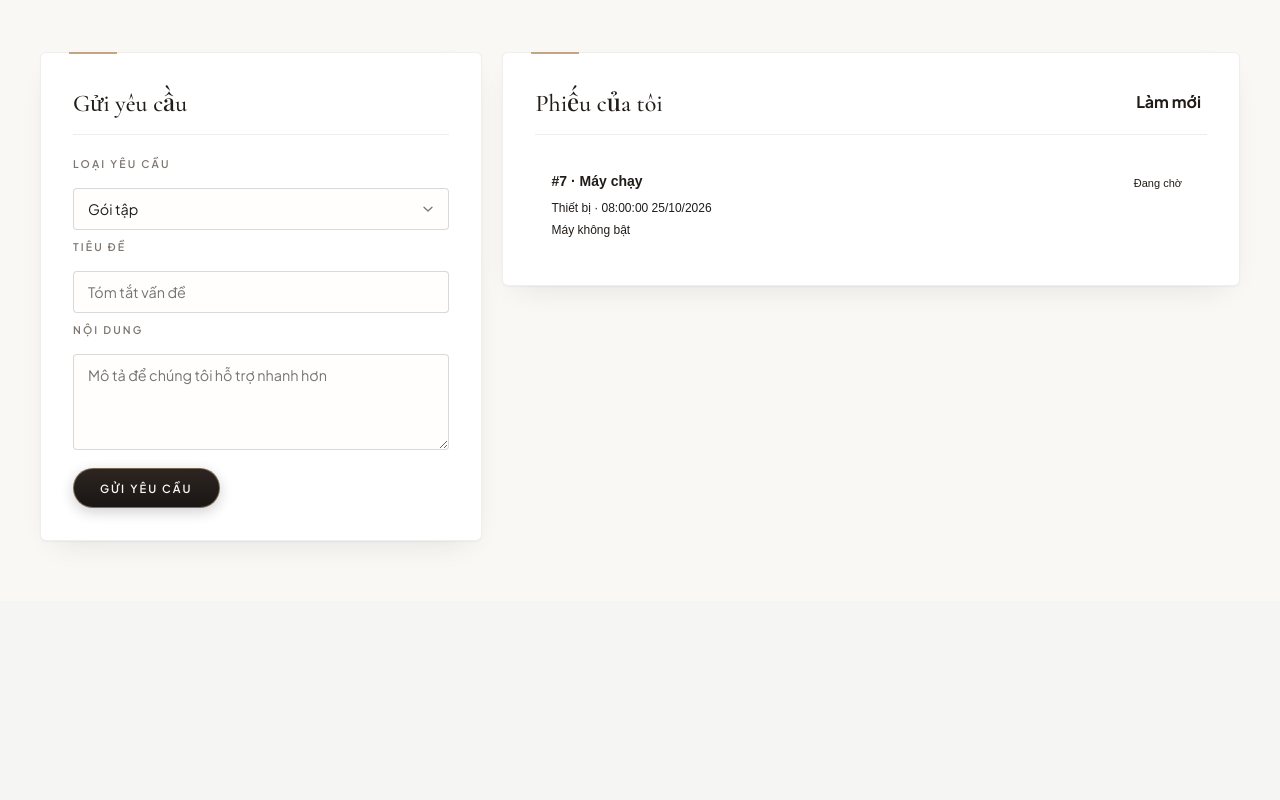
refetches authoritative messages and closed status on realtime invalidation without duplicates
Click the button with class "member-support-ticket". click: x=611, y=181
box: [536,157,1207,253]
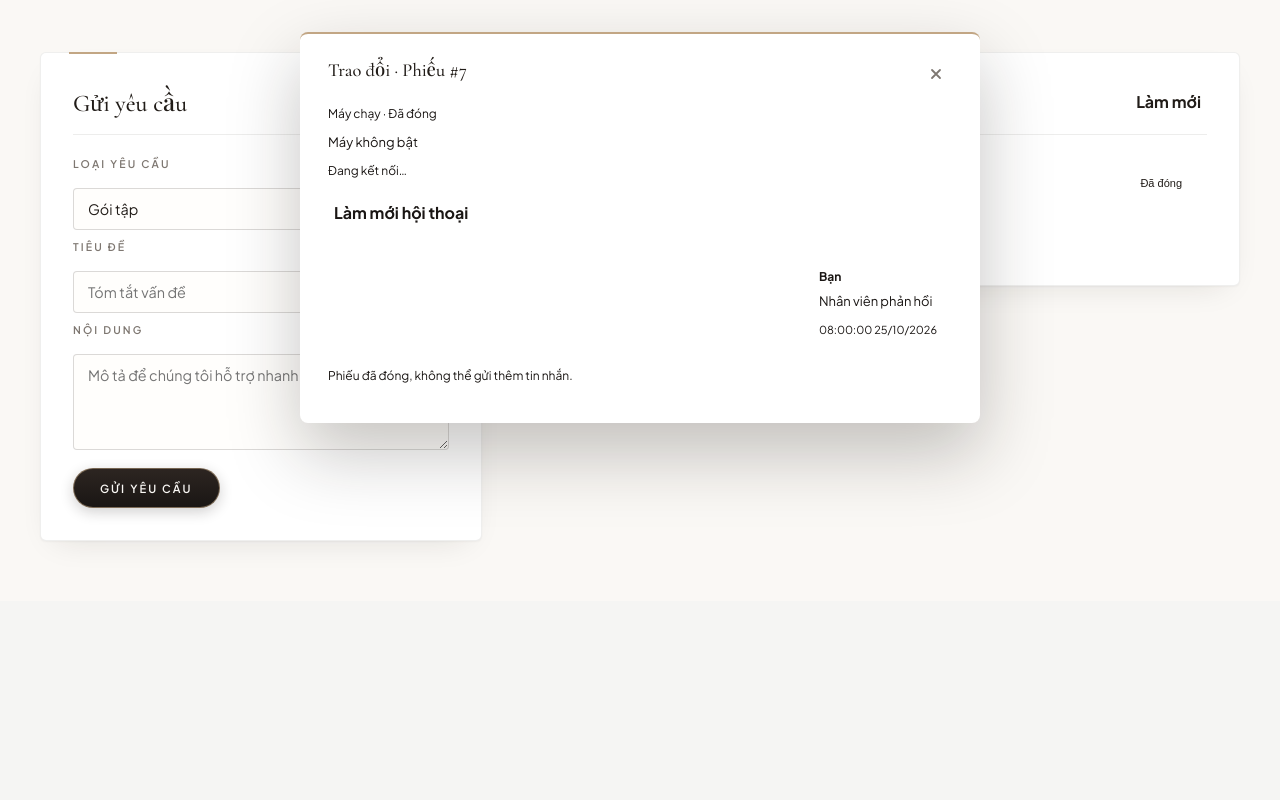
Result: the number of list items is 1 at [819,269,937,336]
Result: the text "Nhân viên phản hồi" is shown at [819,293,937,309]
